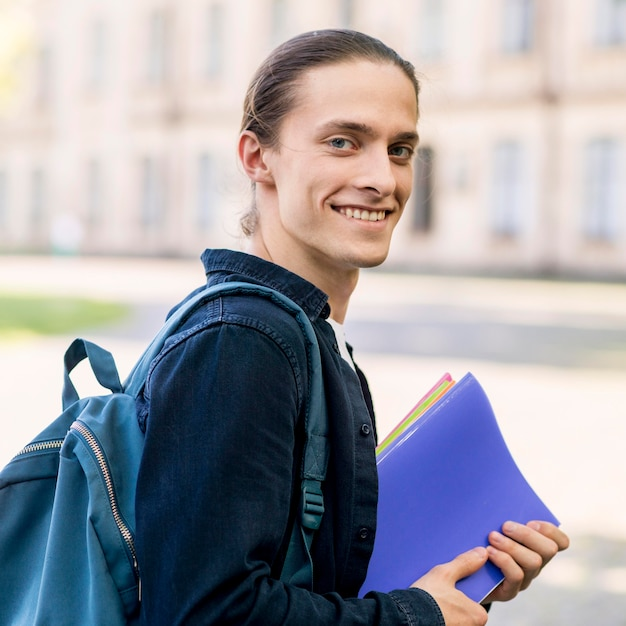teen: (237, 25, 451, 273)
